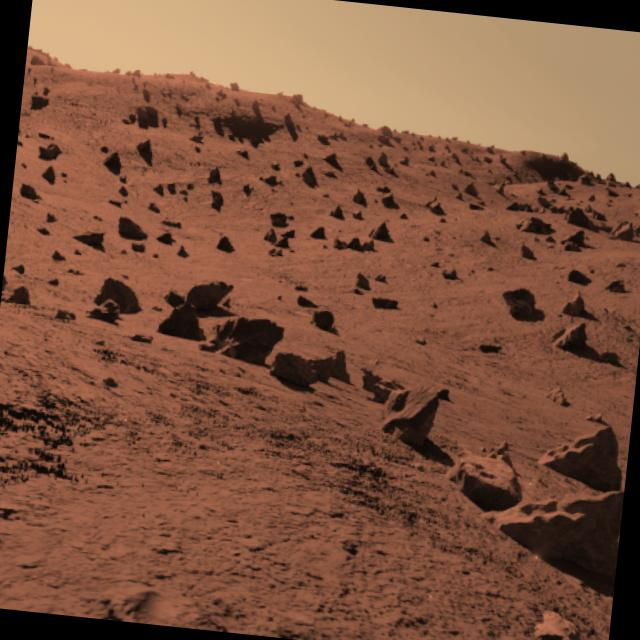rock: (450, 451, 521, 503)
